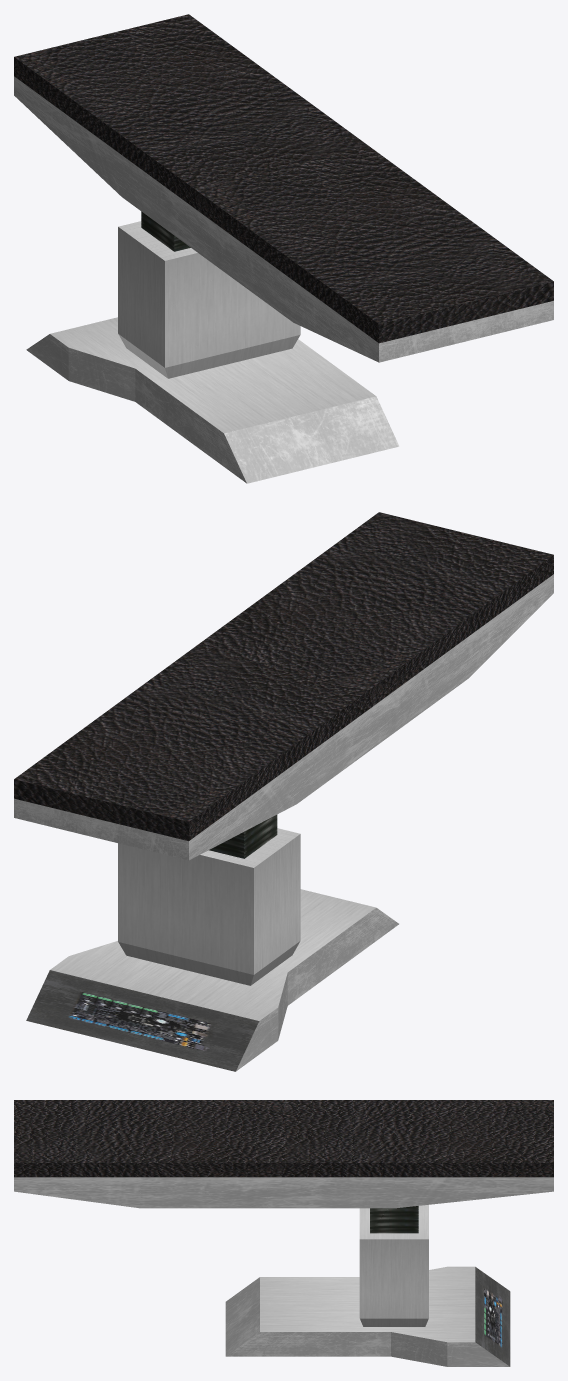
Rendered from Operating_Table_v2.fbx.
3 views of the same model, one above another, from view 1: azimuth 30°, elevation 25°; view 2: azimuth 150°, elevation 25°; view 3: azimuth 270°, elevation 25° (orthographic). The views are drawn at different scales.
Parts seen in each view (by area): view 1: Table; view 2: Table; view 3: Table.
Part boxes in pixels (x1,y1,x2,y2): Table: [14, 14, 553, 483]; Table: [14, 512, 553, 1071]; Table: [14, 1100, 553, 1366].
Size of the model in its own units: 74.94 by 91.35 by 226.
